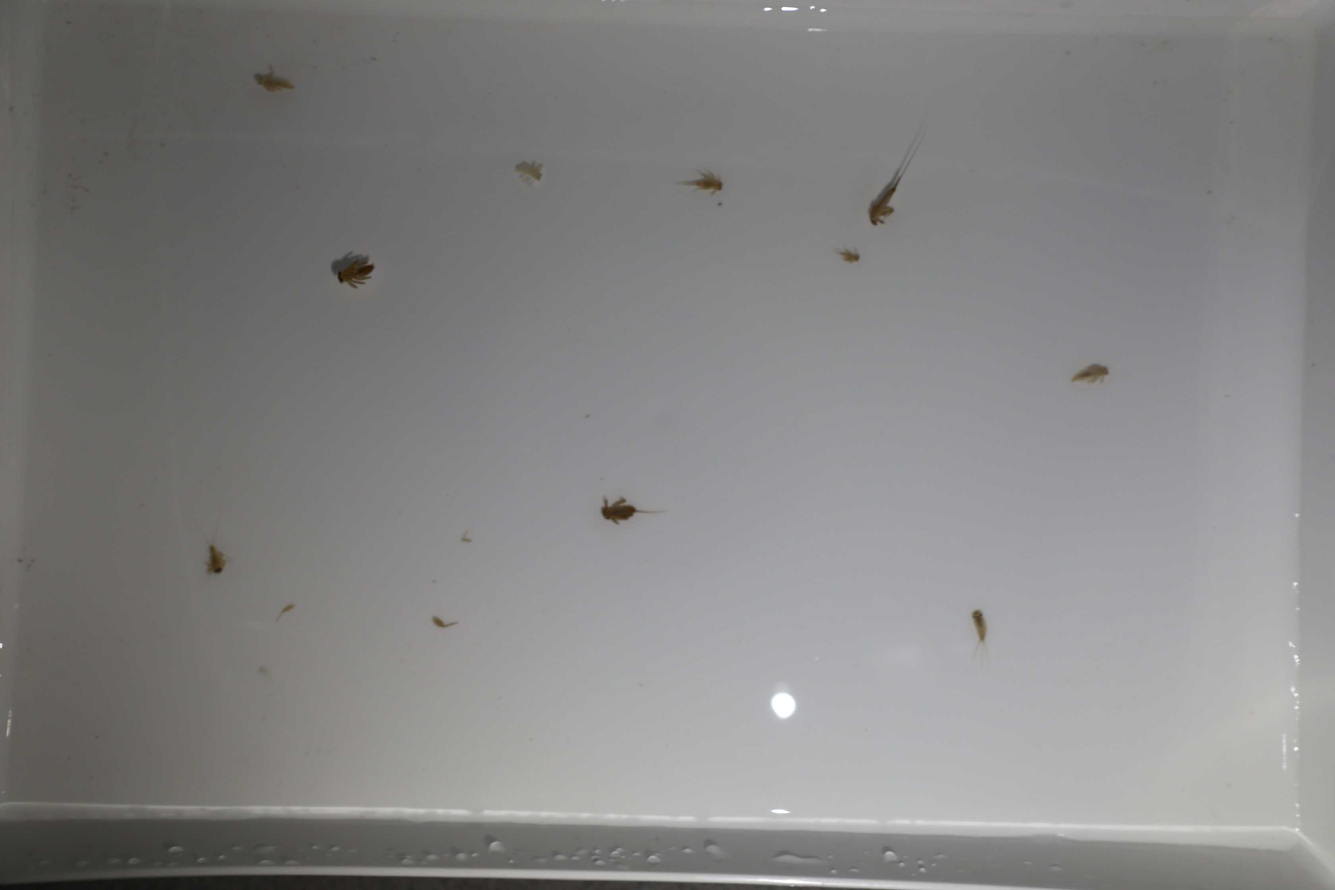Mayfly: (862, 119, 930, 236), (589, 490, 670, 527), (1052, 353, 1126, 393), (319, 249, 383, 292), (244, 61, 304, 101), (959, 599, 992, 669), (660, 167, 728, 200), (200, 535, 231, 581), (822, 244, 865, 272), (509, 160, 547, 187)
